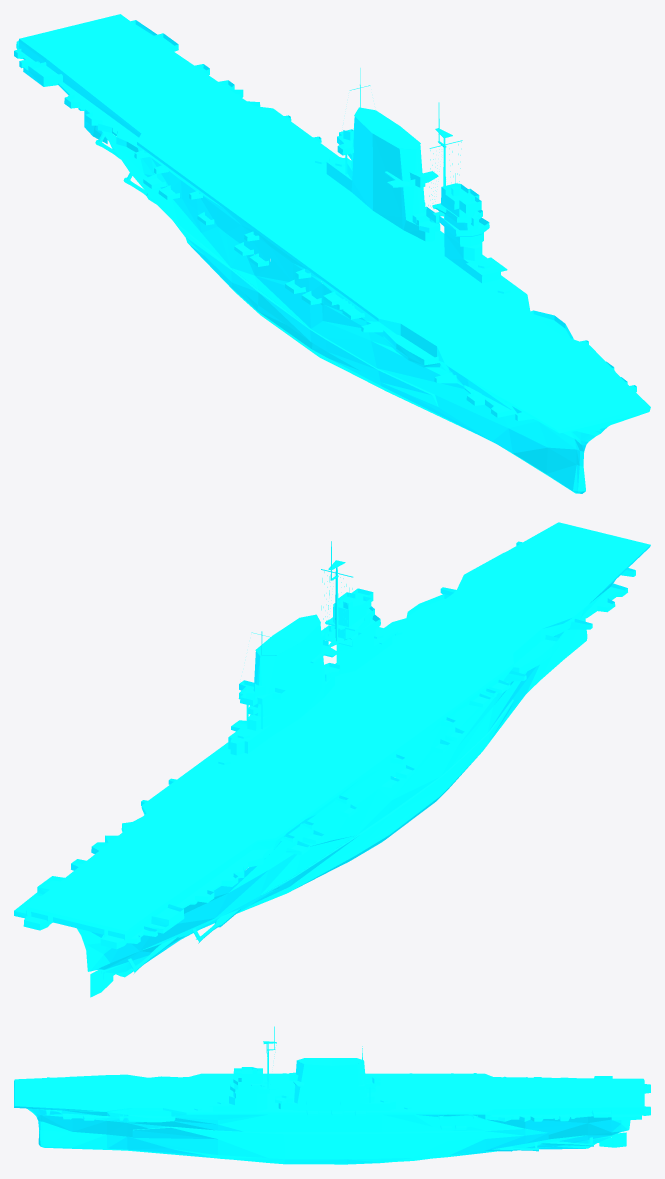
The model's file is Concord_Bridge.glb.
The picture shows the model from 3 angles, top to bottom: view 1: azimuth 30°, elevation 25°; view 2: azimuth 150°, elevation 25°; view 3: azimuth 270°, elevation 25°; orthographic projection. The views are drawn at different scales.
Bounding box in the file's own units: 3.23 × 4.47 × 18.81.
